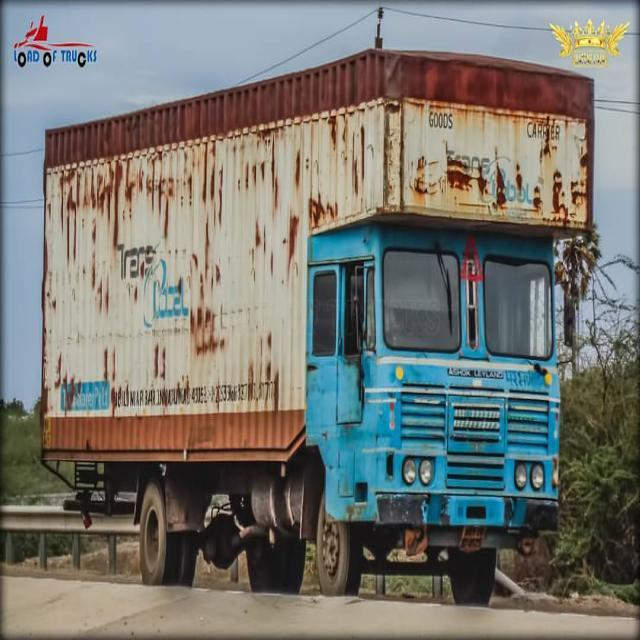Truck: (40, 47, 598, 597)
